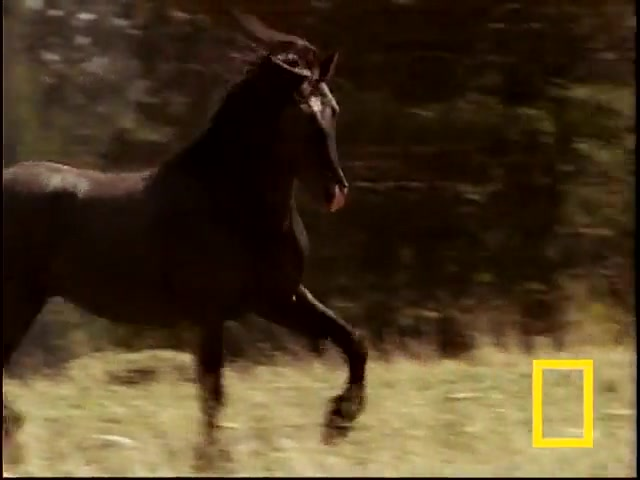horse: (3, 11, 372, 469)
